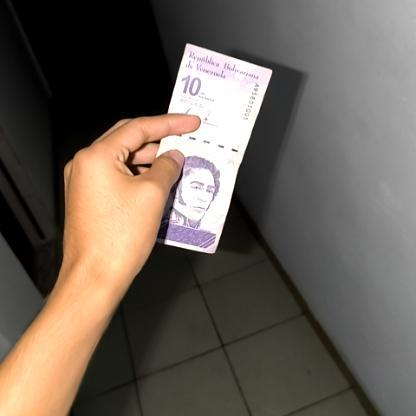ten-front-vef: (154, 43, 274, 256)
